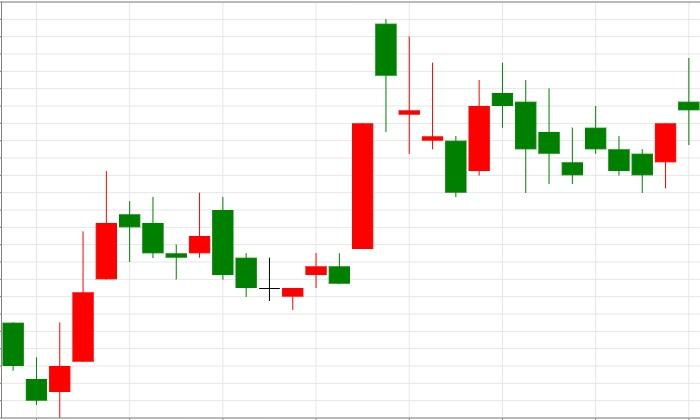evening_star_fall: (25, 171, 164, 417)
